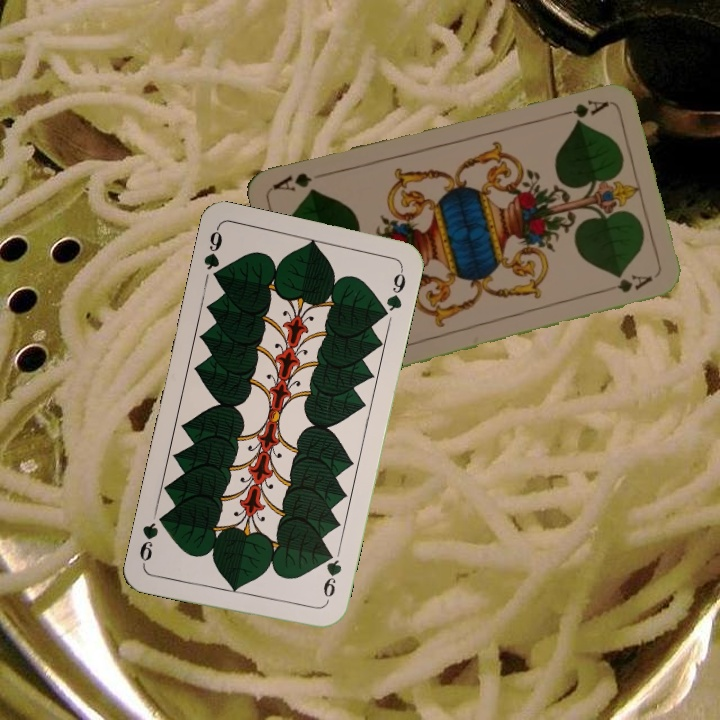G9: (199, 224, 225, 285), (319, 547, 345, 607)
GA: (552, 96, 611, 121)
